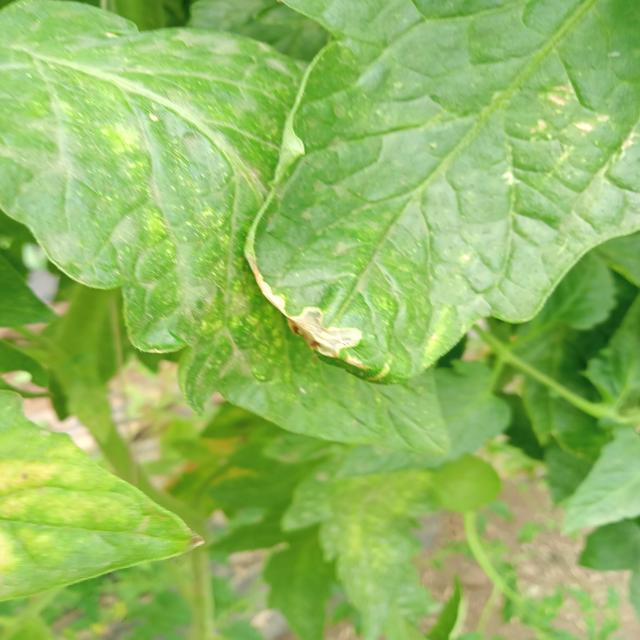Tuta absoluta: (224, 251, 365, 369)
